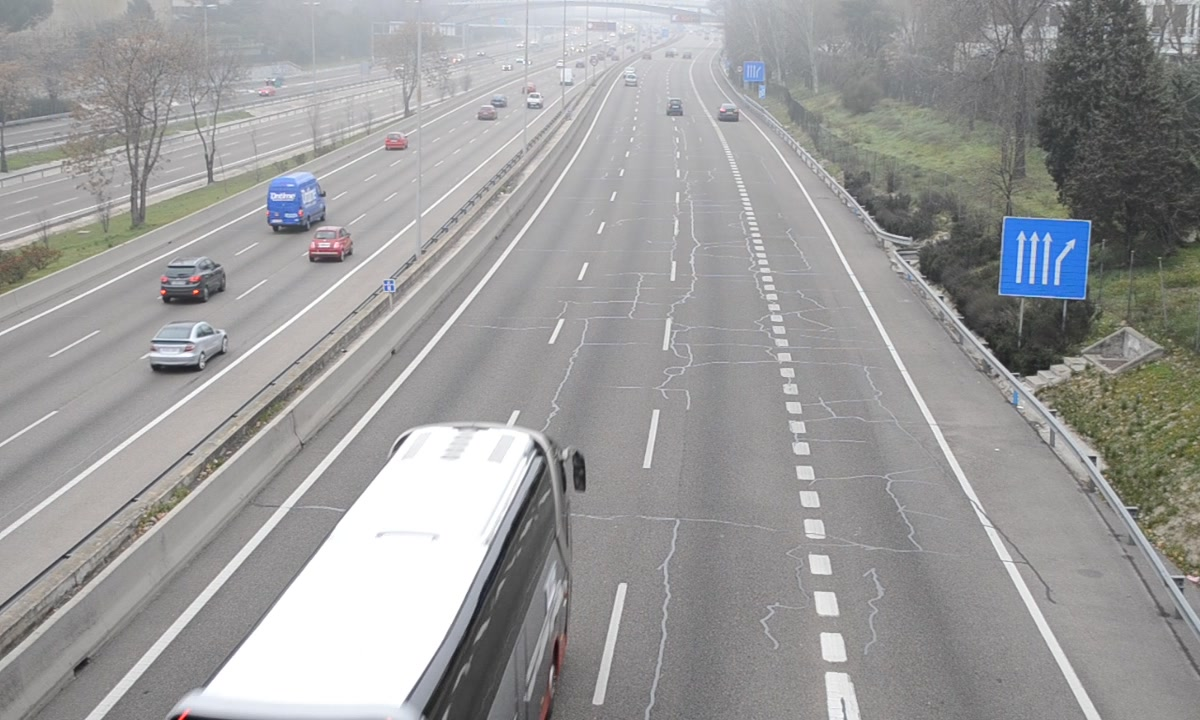bus: (178, 426, 572, 720)
car: (716, 103, 740, 124), (665, 97, 686, 118)
